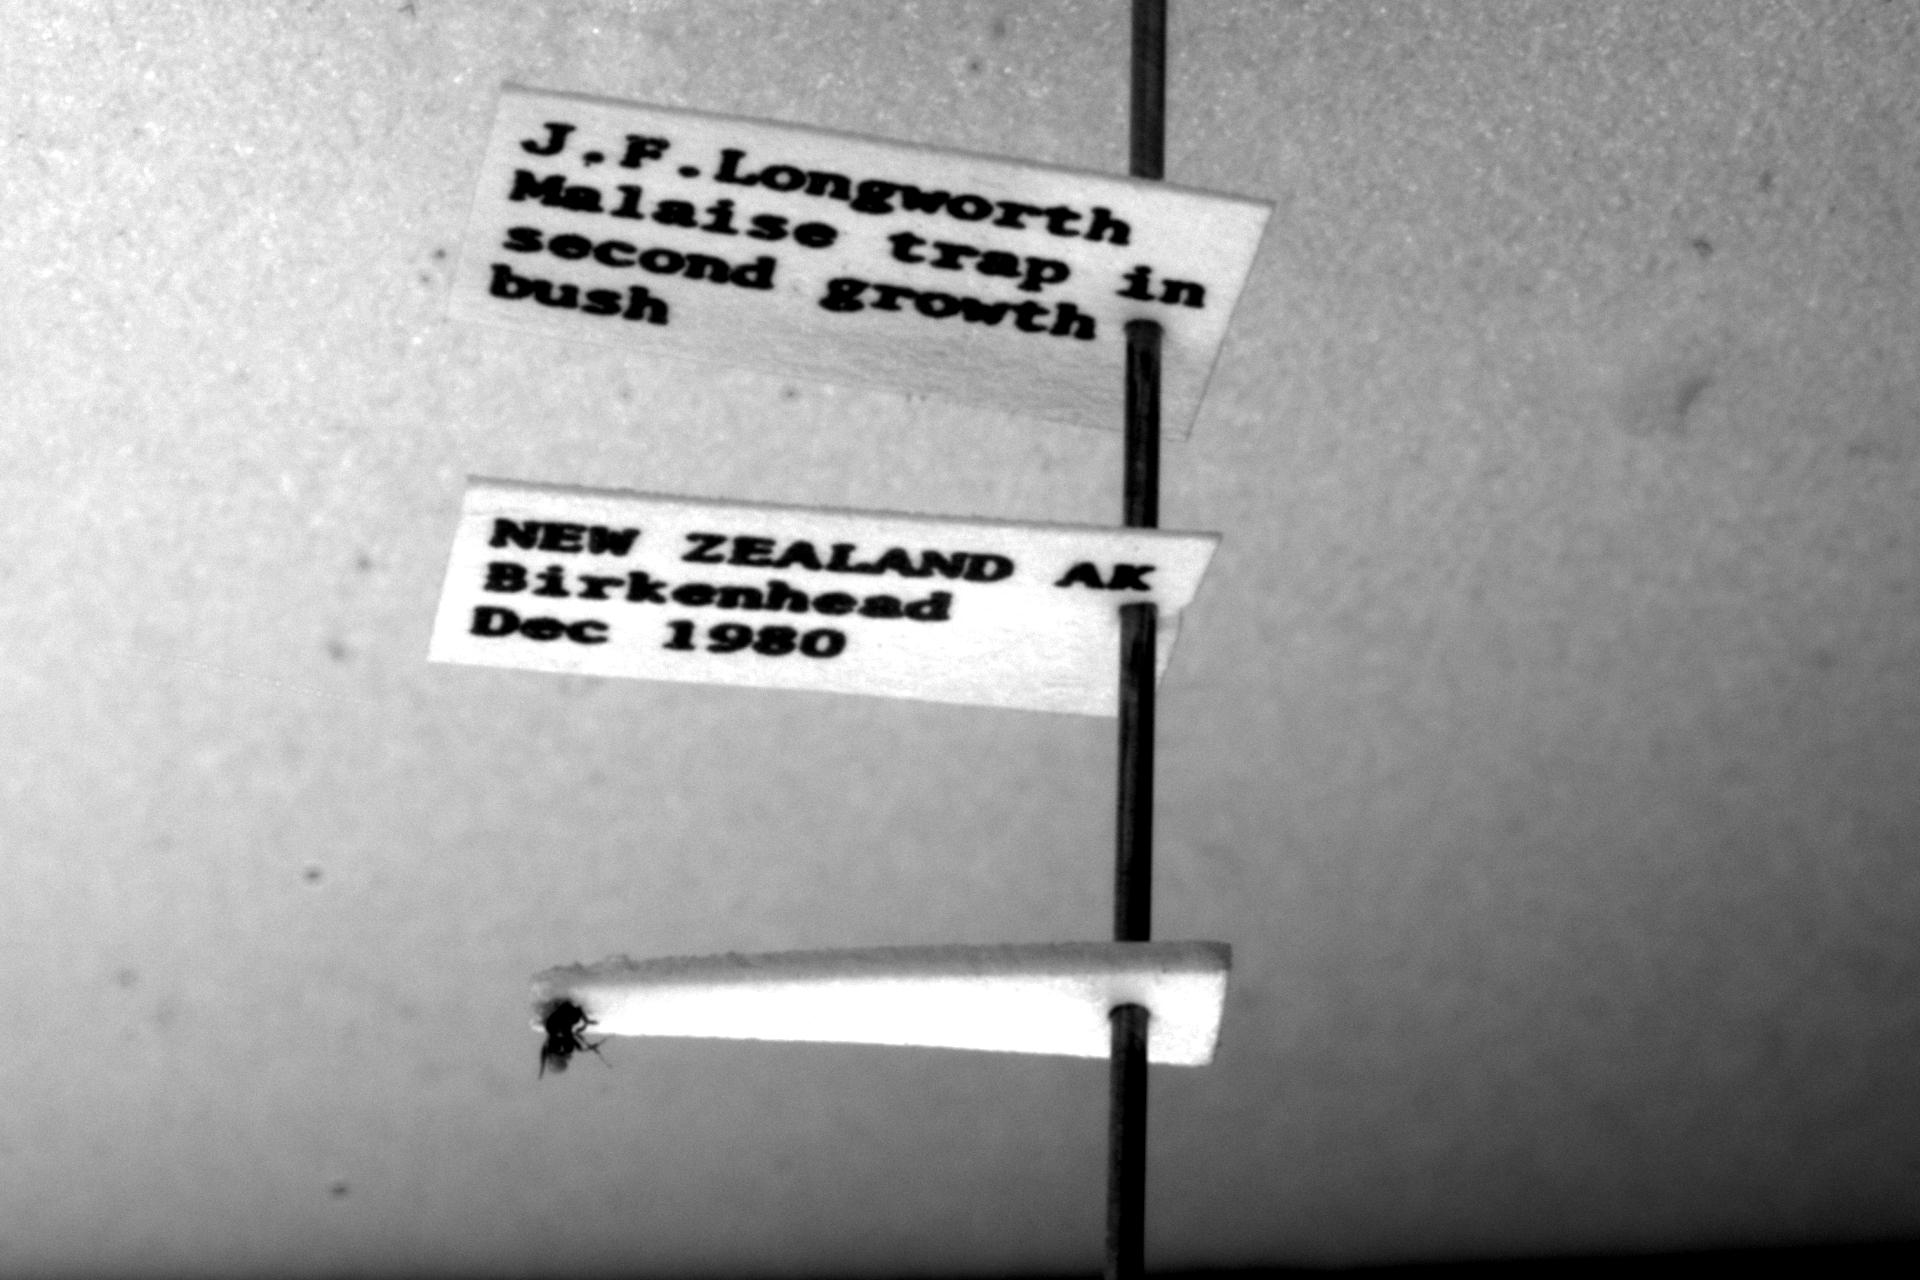typed_label: (450, 86, 1271, 439), (428, 480, 1219, 716)
